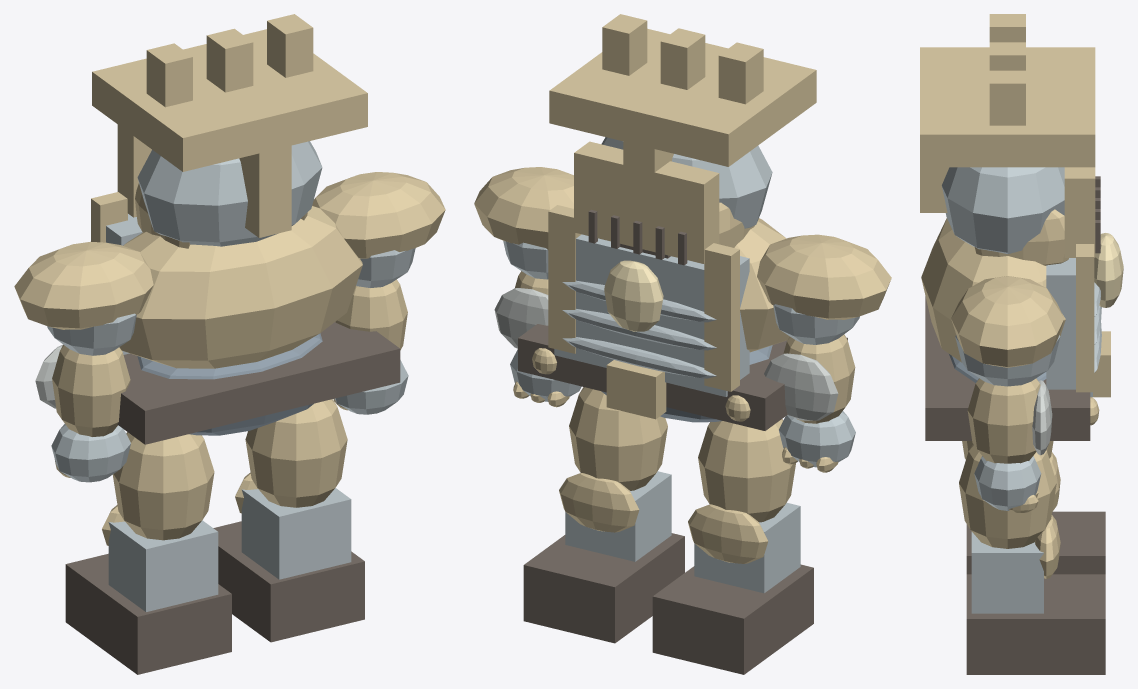
The model's file is crypt_warden.gltf.
The picture shows the model from 3 angles, left to right: view 1: azimuth 30°, elevation 25°; view 2: azimuth 150°, elevation 25°; view 3: azimuth 270°, elevation 25°; orthographic projection. The views are drawn at different scales.
Parts seen in each view (by area): view 1: Part2, Part53, Part4, Part25, Part6, Part38, Part26, Part23, Part36, Part39, Part24, Part37 (+16 smaller); view 2: Part53, Part25, Part38, Part7, Part3, Part26, Part23, Part36, Part4, Part39, Part46, Part24 (+24 smaller); view 3: Part53, Part38, Part6, Part39, Part4, Part2, Part37, Part34, Part36, Part25, Part3, Part48 (+13 smaller).
Part boxes in pixels (bbox=[...]): Part2: bbox=[119, 206, 362, 368]; Part53: bbox=[92, 29, 367, 171]; Part4: bbox=[117, 322, 400, 444]; Part25: bbox=[65, 553, 231, 674]; Part6: bbox=[137, 141, 322, 246]; Part38: bbox=[213, 521, 364, 642]; Part26: bbox=[14, 241, 153, 329]; Part23: bbox=[113, 432, 214, 540]; Part36: bbox=[245, 399, 347, 507]; Part39: bbox=[312, 172, 445, 258]; Part24: bbox=[108, 520, 218, 611]; Part37: bbox=[241, 488, 351, 579]; Part53: bbox=[549, 28, 816, 166]; Part25: bbox=[652, 564, 813, 674]; Part38: bbox=[523, 533, 684, 643]; Part7: bbox=[574, 141, 719, 263]; Part3: bbox=[554, 234, 749, 396]; Part26: bbox=[757, 234, 891, 319]; Part23: bbox=[698, 419, 795, 522]; Part36: bbox=[569, 387, 667, 490]; Part4: bbox=[518, 324, 847, 430]; Part39: bbox=[474, 167, 573, 249]; Part46: bbox=[704, 243, 739, 391]; Part24: bbox=[694, 503, 800, 593]; Part53: bbox=[920, 47, 1095, 167]; Part38: bbox=[966, 574, 1105, 674]; Part6: bbox=[941, 167, 1064, 254]; Part39: bbox=[951, 276, 1064, 367]; Part4: bbox=[925, 296, 1090, 440]; Part2: bbox=[921, 218, 1065, 362]; Part37: bbox=[971, 532, 1043, 613]; Part34: bbox=[967, 378, 1040, 463]; Part36: bbox=[959, 444, 1056, 548]; Part25: bbox=[966, 511, 1105, 574]; Part3: bbox=[1046, 258, 1092, 396]; Part48: bbox=[1076, 244, 1094, 392].
Size of the model in its own units: 0.908 by 1.22 by 0.395.
